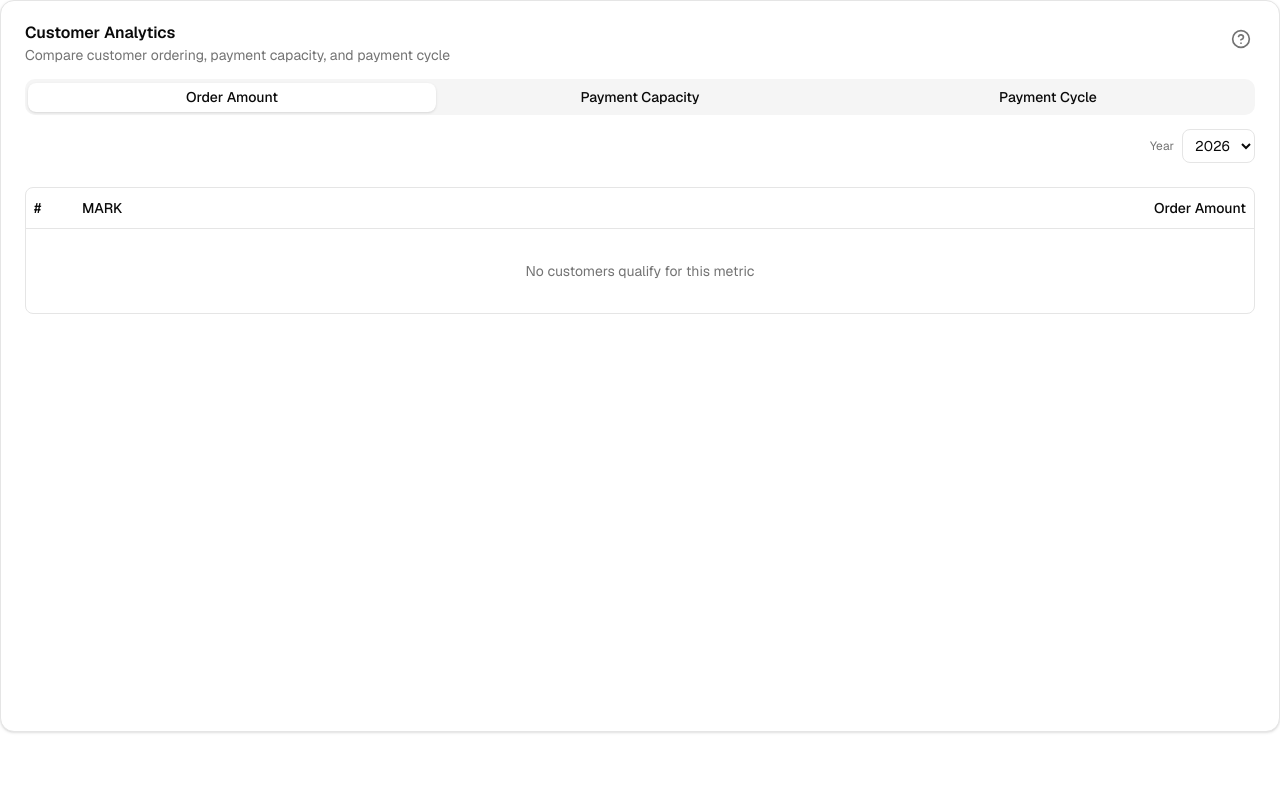
Test: CustomerAnalyticsCard › shows server risk visuals and rule/quality explanations without persistent status text
Press the mouse on the tab "Payment Cycle" at (1048, 97), box [844,82,1252,112]
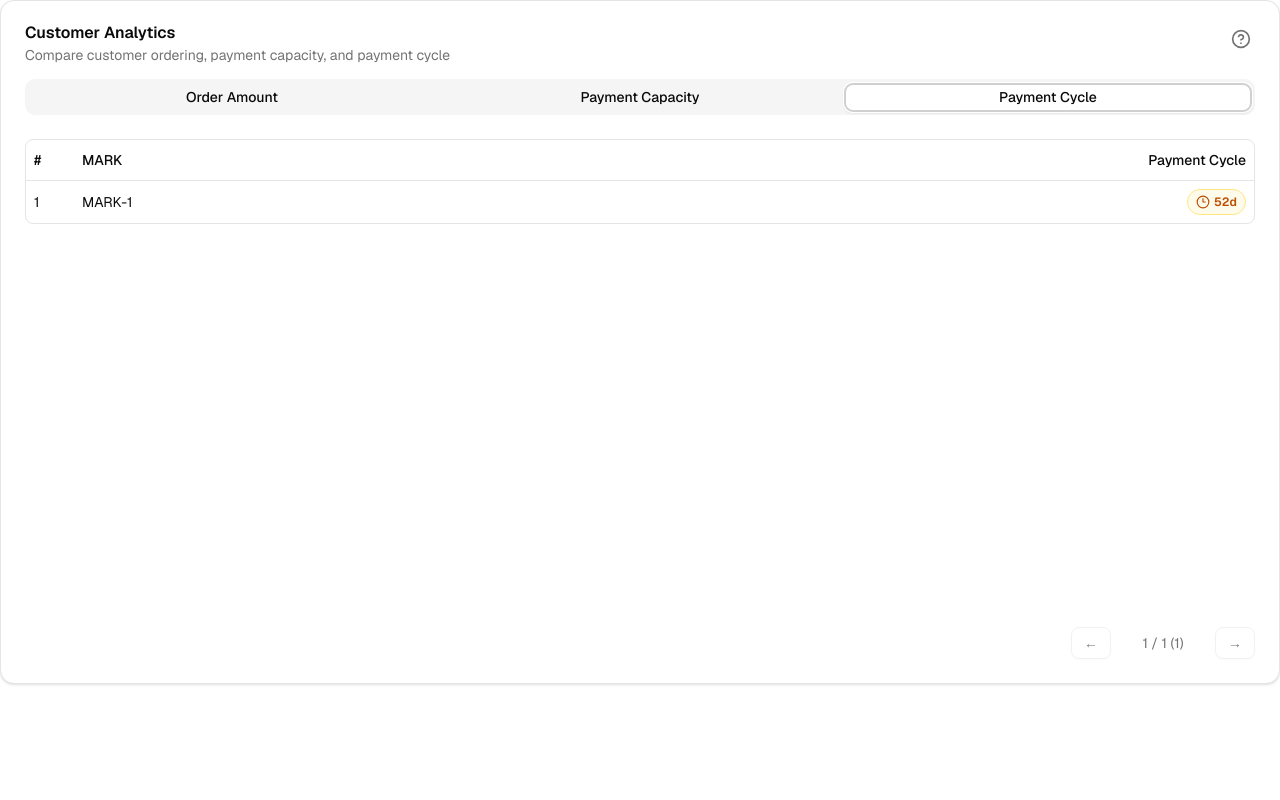
Expected: the button named "Payment-cycle risk: 52 days" reads "52d", [1187,188,1246,214]
Click the button named "Customer analytics calculation rules".
click(1241, 39)  # box [1227,25,1255,53]
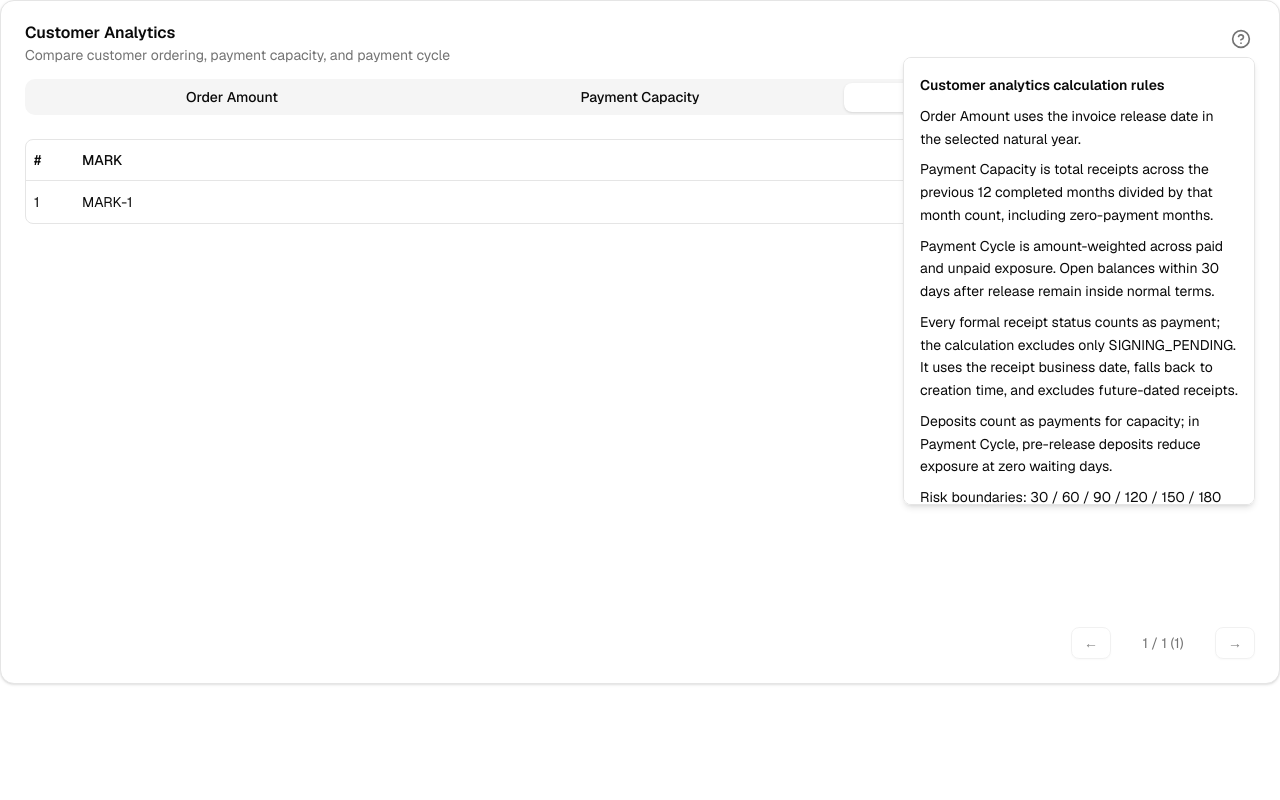
Expected: the dialog with test id "customer-analytics-help-popover" shows "amount-weighted", [920,236,1223,300]
Expected: the dialog with test id "customer-analytics-help-popover" shows "excludes only SIGNING_PENDING", [920,313,1238,399]
